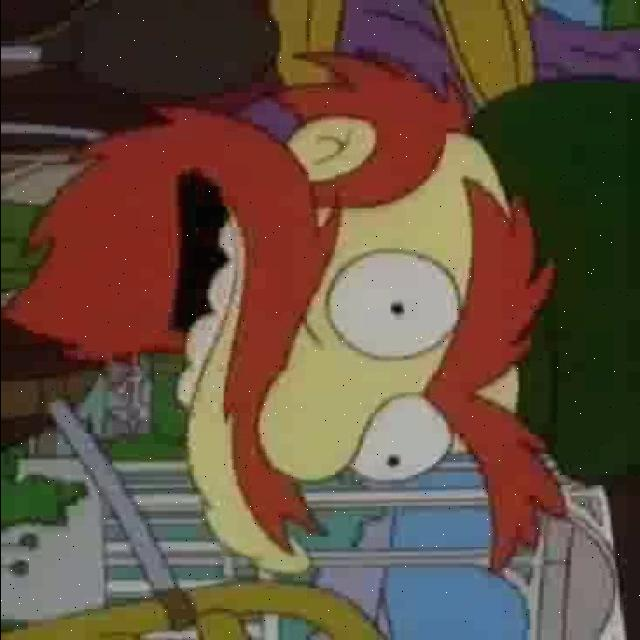Groundskeeper Willie: (6, 50, 564, 575)
